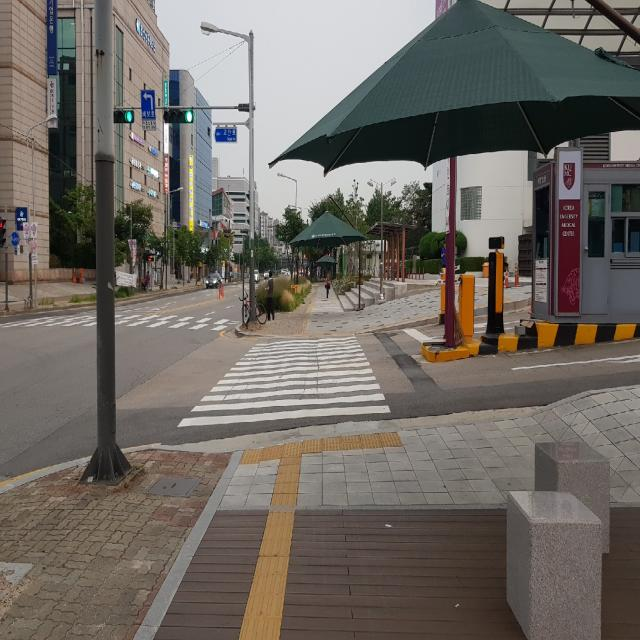횡단보도: (177, 336, 391, 427), (19, 301, 237, 335)
